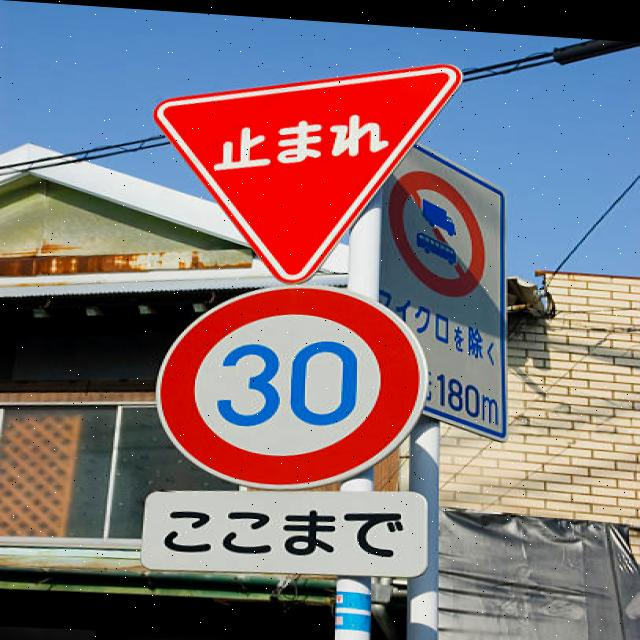Speed limit 30: (154, 271, 431, 494)
